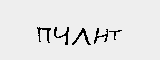Л: (73, 26, 93, 49)
Н: (93, 26, 111, 46)
П: (36, 25, 49, 45)
Т: (108, 29, 122, 44)
Ч: (52, 27, 70, 47)
